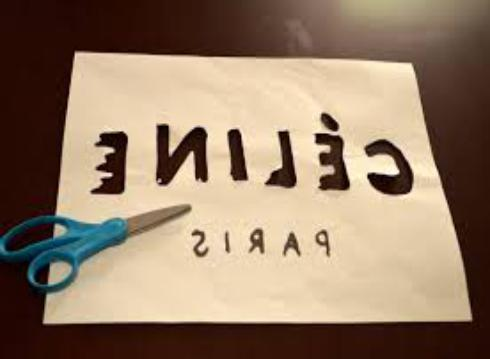CELINE: (83, 107, 420, 204)
